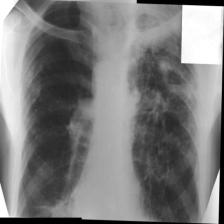tuberculosis: (13, 0, 204, 223)
